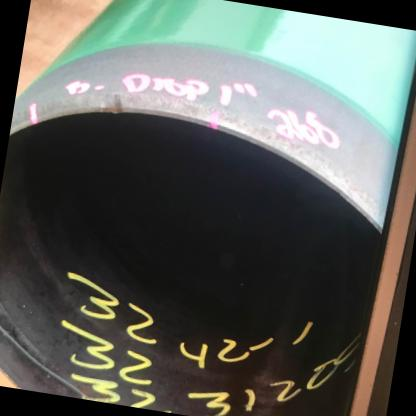Bevel: (91, 86, 138, 126)
